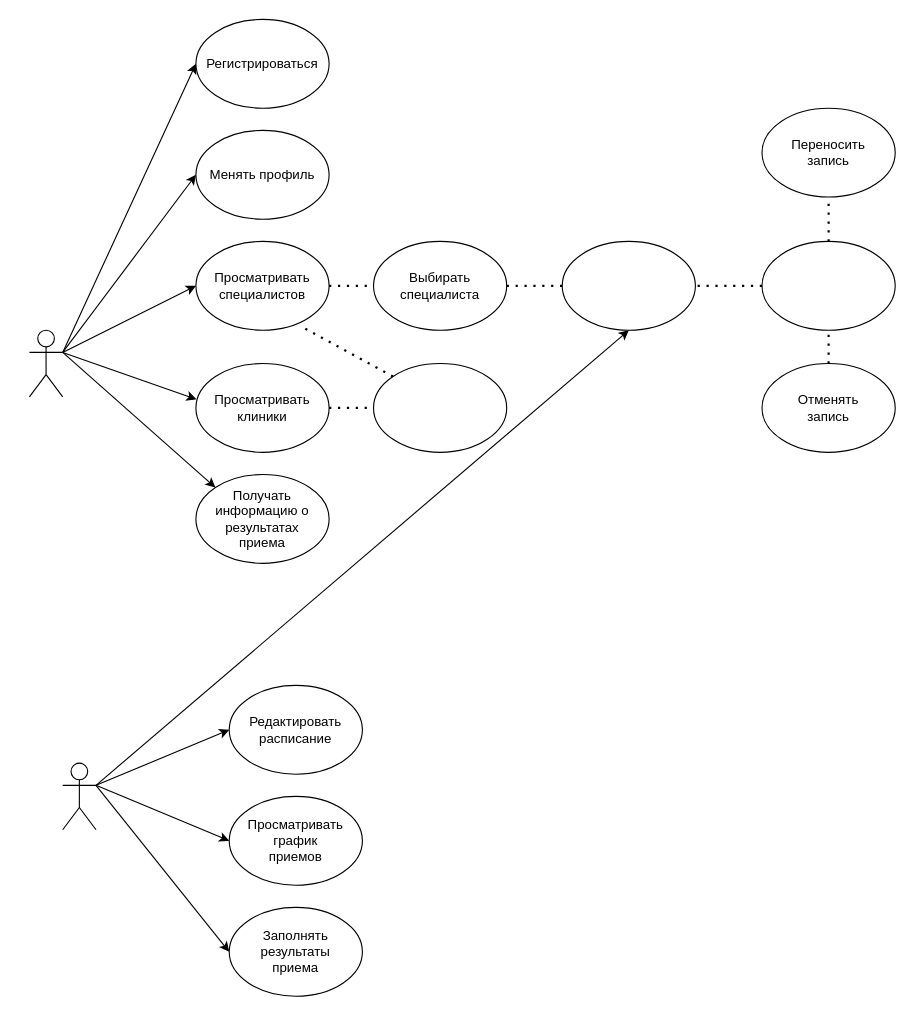
The diagram is 915 pixels wide and 1016 high, and some of its shapes have lost their labels. The shapes that lost their labels are listed below. From the top down, each one's box as (x1, y1, x2, y2) in pixels, then its label:
(561, 240, 695, 330): Просматривать расписание
(761, 240, 895, 330): Запись на прием
(28, 329, 63, 397): Пациент
(372, 362, 507, 452): Выбирать клинику
(62, 762, 96, 830): Врач
